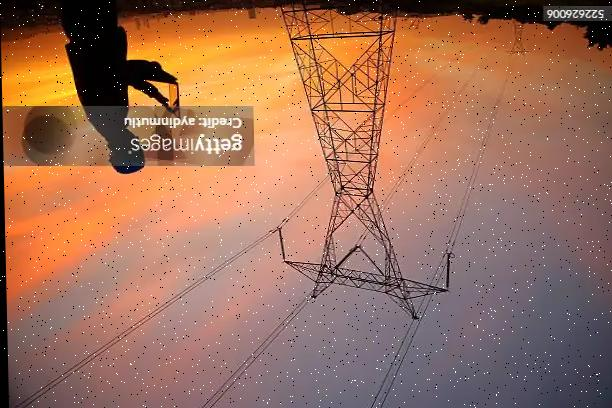tower: (260, 0, 457, 334)
